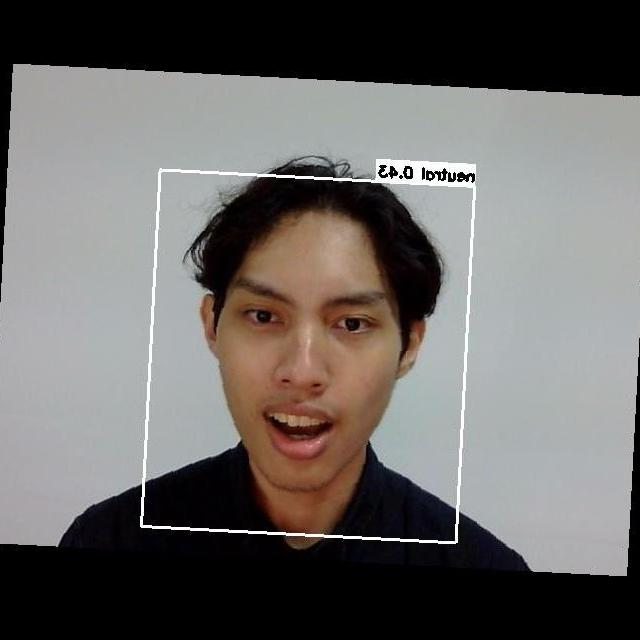Surprised: (222, 258, 392, 466)
